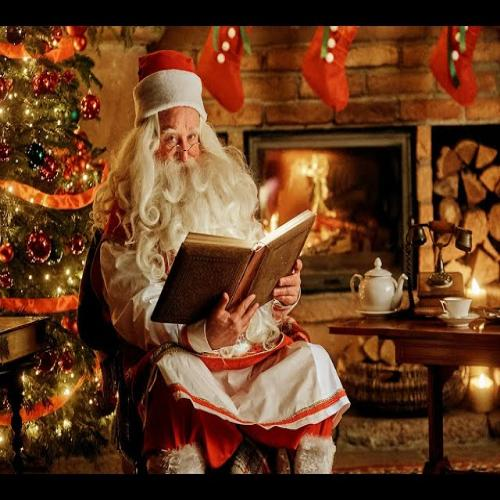Santa: (76, 48, 346, 473)
